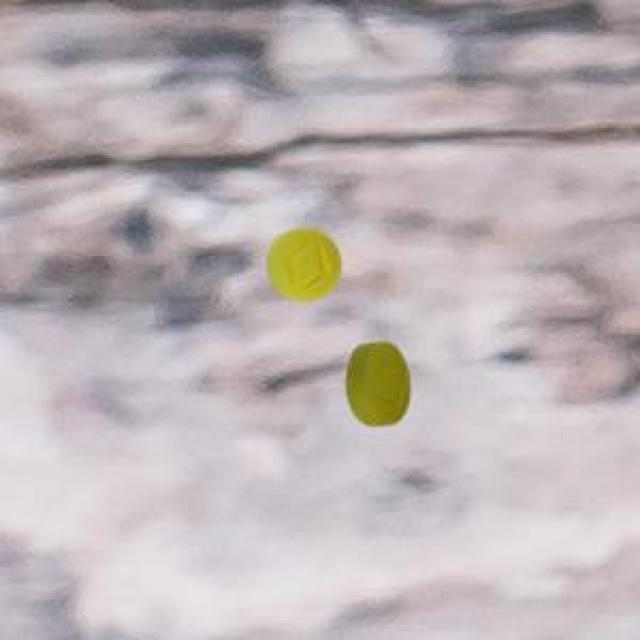Decolgen: (255, 214, 348, 312), (335, 335, 422, 433)
